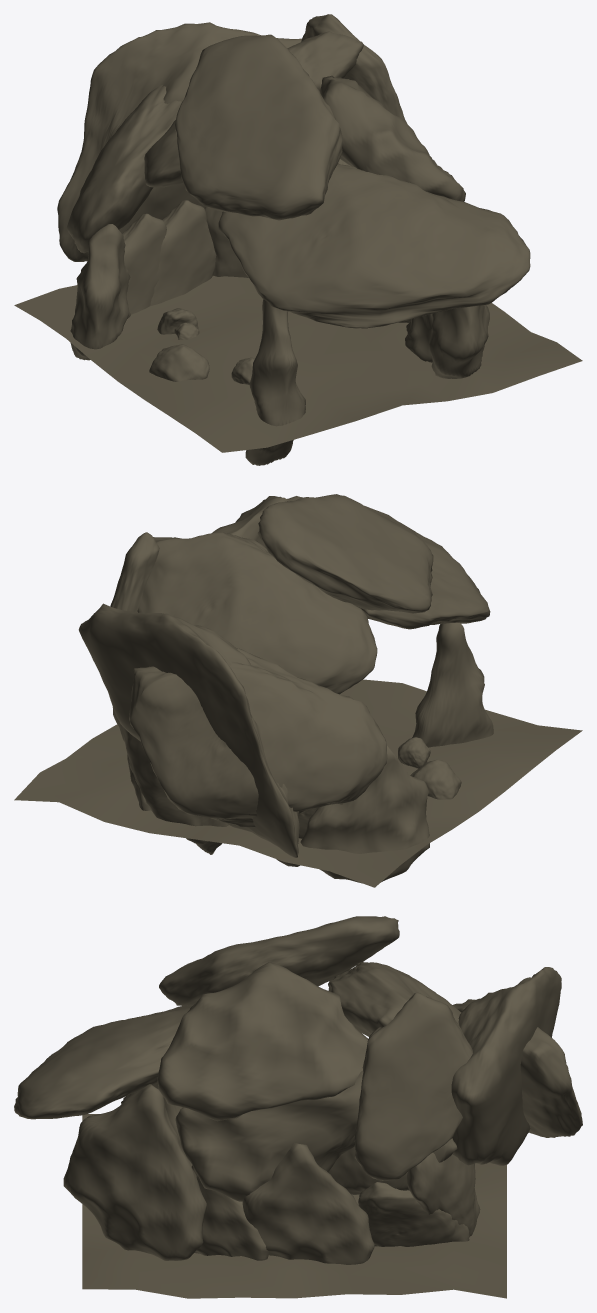
The model's file is stone.fbx.
3 views of the same model, one above another, from view 1: azimuth 30°, elevation 25°; view 2: azimuth 150°, elevation 25°; view 3: azimuth 270°, elevation 25° (orthographic).
Visible parts, largest first — view 1: rock.022, Plane.002; view 2: rock.022, Plane.002; view 3: rock.022, Plane.002.
Boxes of the visible parts, left/top/right/bottom form: rock.022: left=57, top=14, right=530, bottom=465; Plane.002: left=14, top=276, right=582, bottom=452; rock.022: left=78, top=494, right=493, bottom=883; Plane.002: left=14, top=679, right=582, bottom=887; rock.022: left=14, top=916, right=582, bottom=1264; Plane.002: left=82, top=1114, right=506, bottom=1298.
Size of the model in its own units: 3471 by 3097 by 4652.
